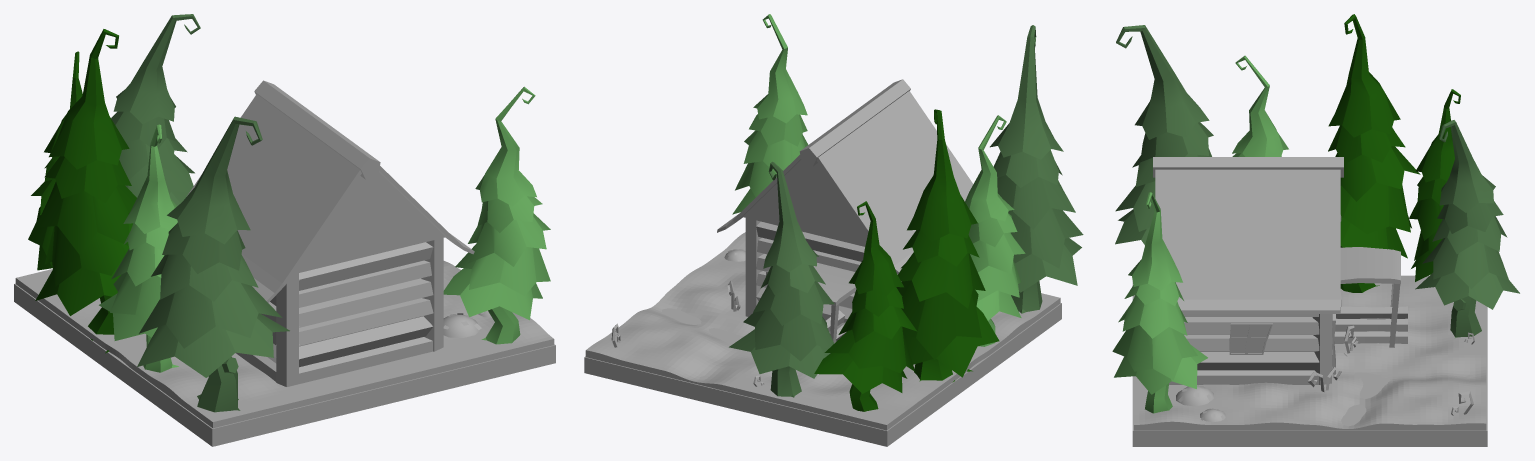
The model's file is Foret_cabane_v1.fbx.
3 renders of one model, left to right at view 1: azimuth 30°, elevation 25°; view 2: azimuth 150°, elevation 25°; view 3: azimuth 270°, elevation 25°, orthographic. The views are drawn at different scales.
Visible parts, largest first — view 1: cabane, sapin33, sapin35, sol31, sapin38, sol28, sapin34, sapin36, sapin37, Buisson46; view 2: cabane, sol31, sapin35, sapin33, sapin36, sapin37, sol28, sapin34, sapin38; view 3: cabane, sol31, sapin35, sapin36, sapin38, sapin33, sol28, sapin37, sapin34, Buisson46.
Boxes of the visible parts, left/top/right/bottom form: cabane: left=186, top=80, right=474, bottom=386; sapin33: left=137, top=116, right=289, bottom=412; sapin35: left=35, top=29, right=136, bottom=353; sol31: left=15, top=261, right=554, bottom=428; sapin38: left=443, top=86, right=550, bottom=344; sol28: left=14, top=283, right=555, bottom=446; sapin34: left=99, top=124, right=178, bottom=372; sapin36: left=111, top=14, right=200, bottom=206; sapin37: left=28, top=51, right=82, bottom=270; Buisson46: left=443, top=313, right=481, bottom=337; cabane: left=717, top=79, right=973, bottom=343; sol31: left=585, top=232, right=1060, bottom=430; sapin35: left=896, top=109, right=999, bottom=382; sapin33: left=990, top=25, right=1083, bottom=313; sapin36: left=729, top=161, right=834, bottom=397; sapin37: left=814, top=201, right=917, bottom=411; sol28: left=584, top=303, right=1061, bottom=446; sapin34: left=965, top=115, right=1025, bottom=346; sapin38: left=732, top=14, right=808, bottom=214; cabane: left=1153, top=157, right=1407, bottom=384; sol31: left=1134, top=275, right=1486, bottom=430; sapin35: left=1328, top=14, right=1420, bottom=292; sapin36: left=1415, top=120, right=1519, bottom=337; sapin38: left=1112, top=192, right=1207, bottom=413; sapin33: left=1115, top=25, right=1213, bottom=244; sol28: left=1132, top=282, right=1487, bottom=446; sapin37: left=1409, top=89, right=1460, bottom=281; sapin34: left=1232, top=55, right=1288, bottom=156; Buisson46: left=1176, top=385, right=1213, bottom=406.
Bounding box in the file's own units: 923 × 721 × 921.
